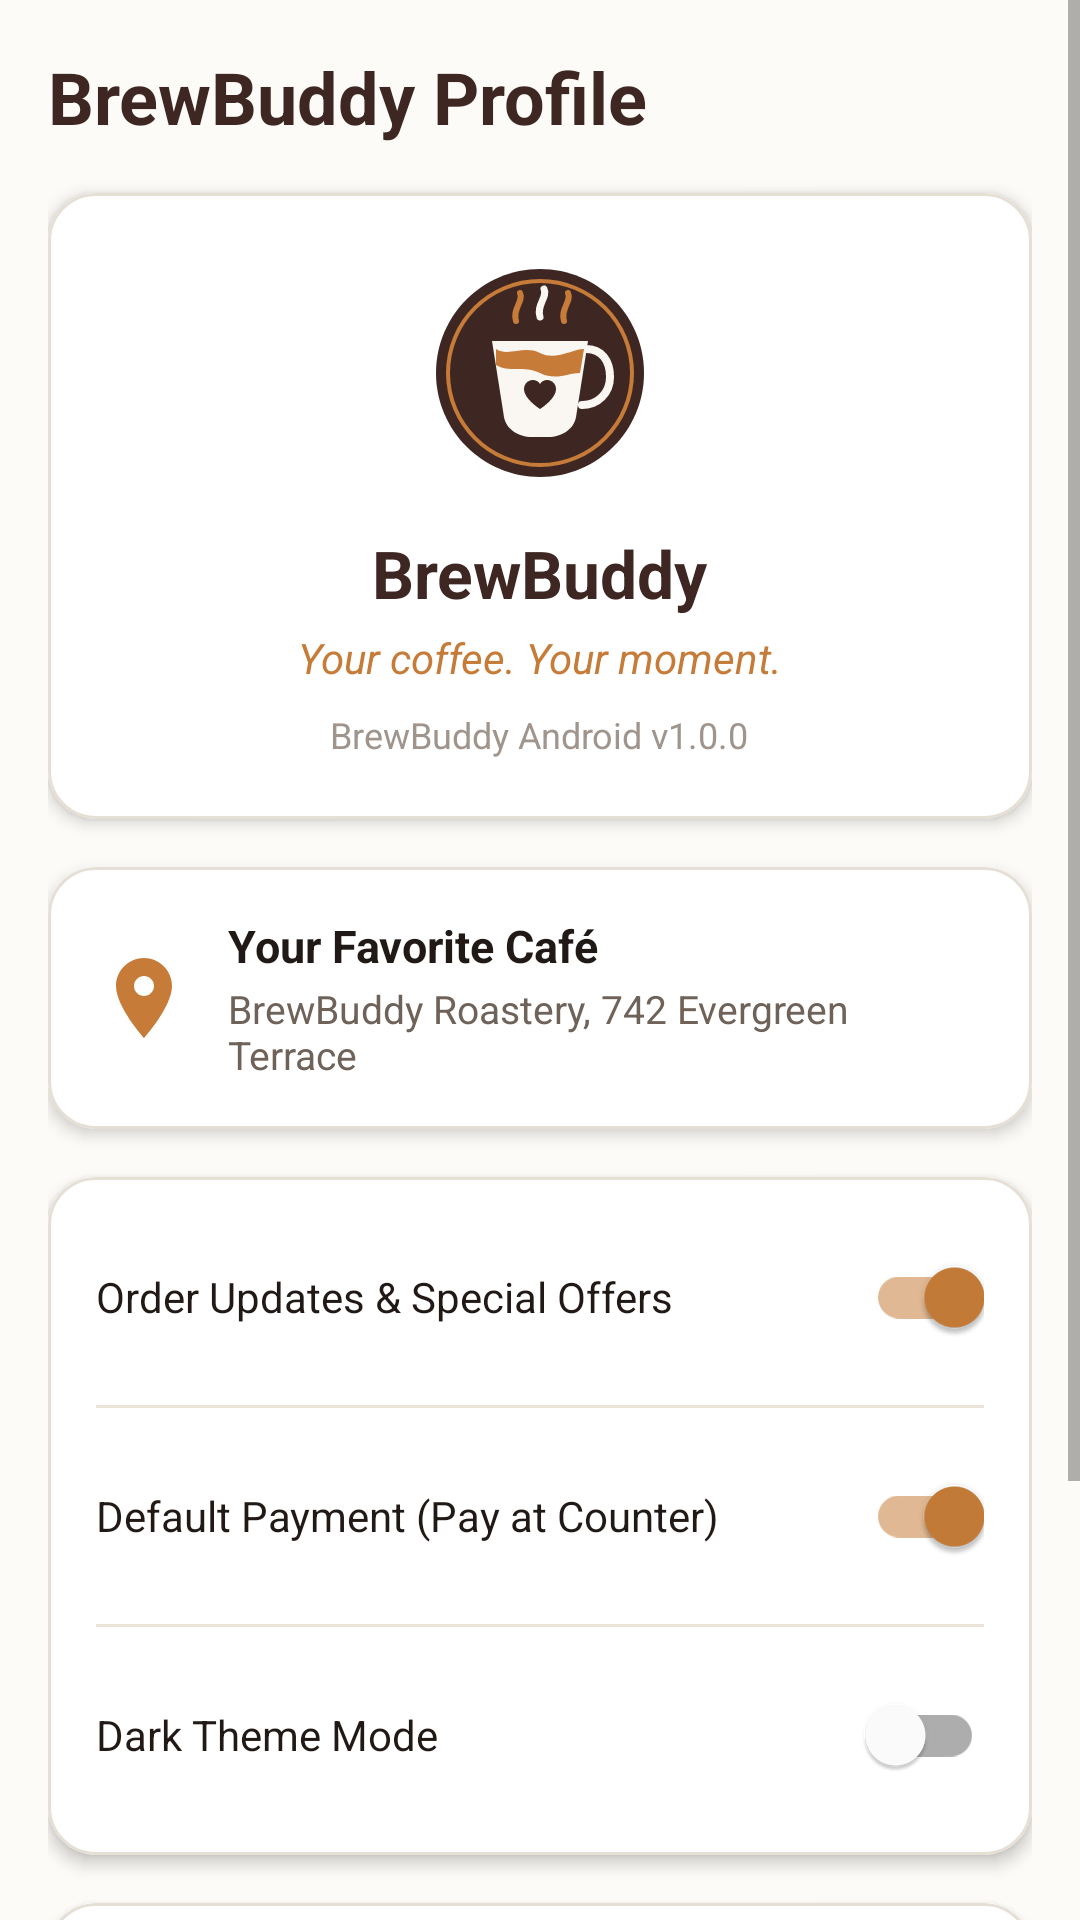

Where to tap for icons on this 1080x1920 app screen, as (x=x, y=y):
location: (x=144, y=998)
